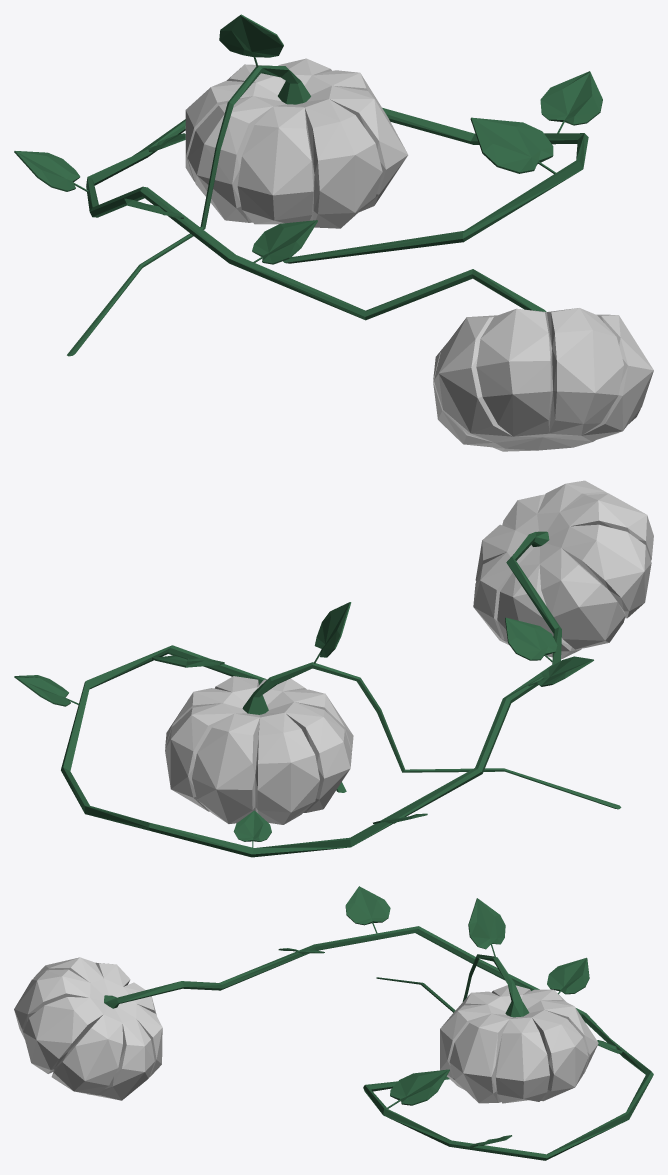
The model's file is mod_vg_pumpkin.fbx.
3 views of the same model, one above another, from view 1: azimuth 30°, elevation 25°; view 2: azimuth 150°, elevation 25°; view 3: azimuth 270°, elevation 25° (orthographic). The views are drawn at different scales.
Parts seen in each view (by area): view 1: TigePotiron.001; view 2: TigePotiron.001; view 3: TigePotiron.001.
Part boxes in pixels (left/top/right/bottom): TigePotiron.001: left=14, top=14, right=653, bottom=451; TigePotiron.001: left=14, top=480, right=653, bottom=857; TigePotiron.001: left=14, top=886, right=653, bottom=1160.
Size of the model in its own units: 186 by 73.46 by 238.
